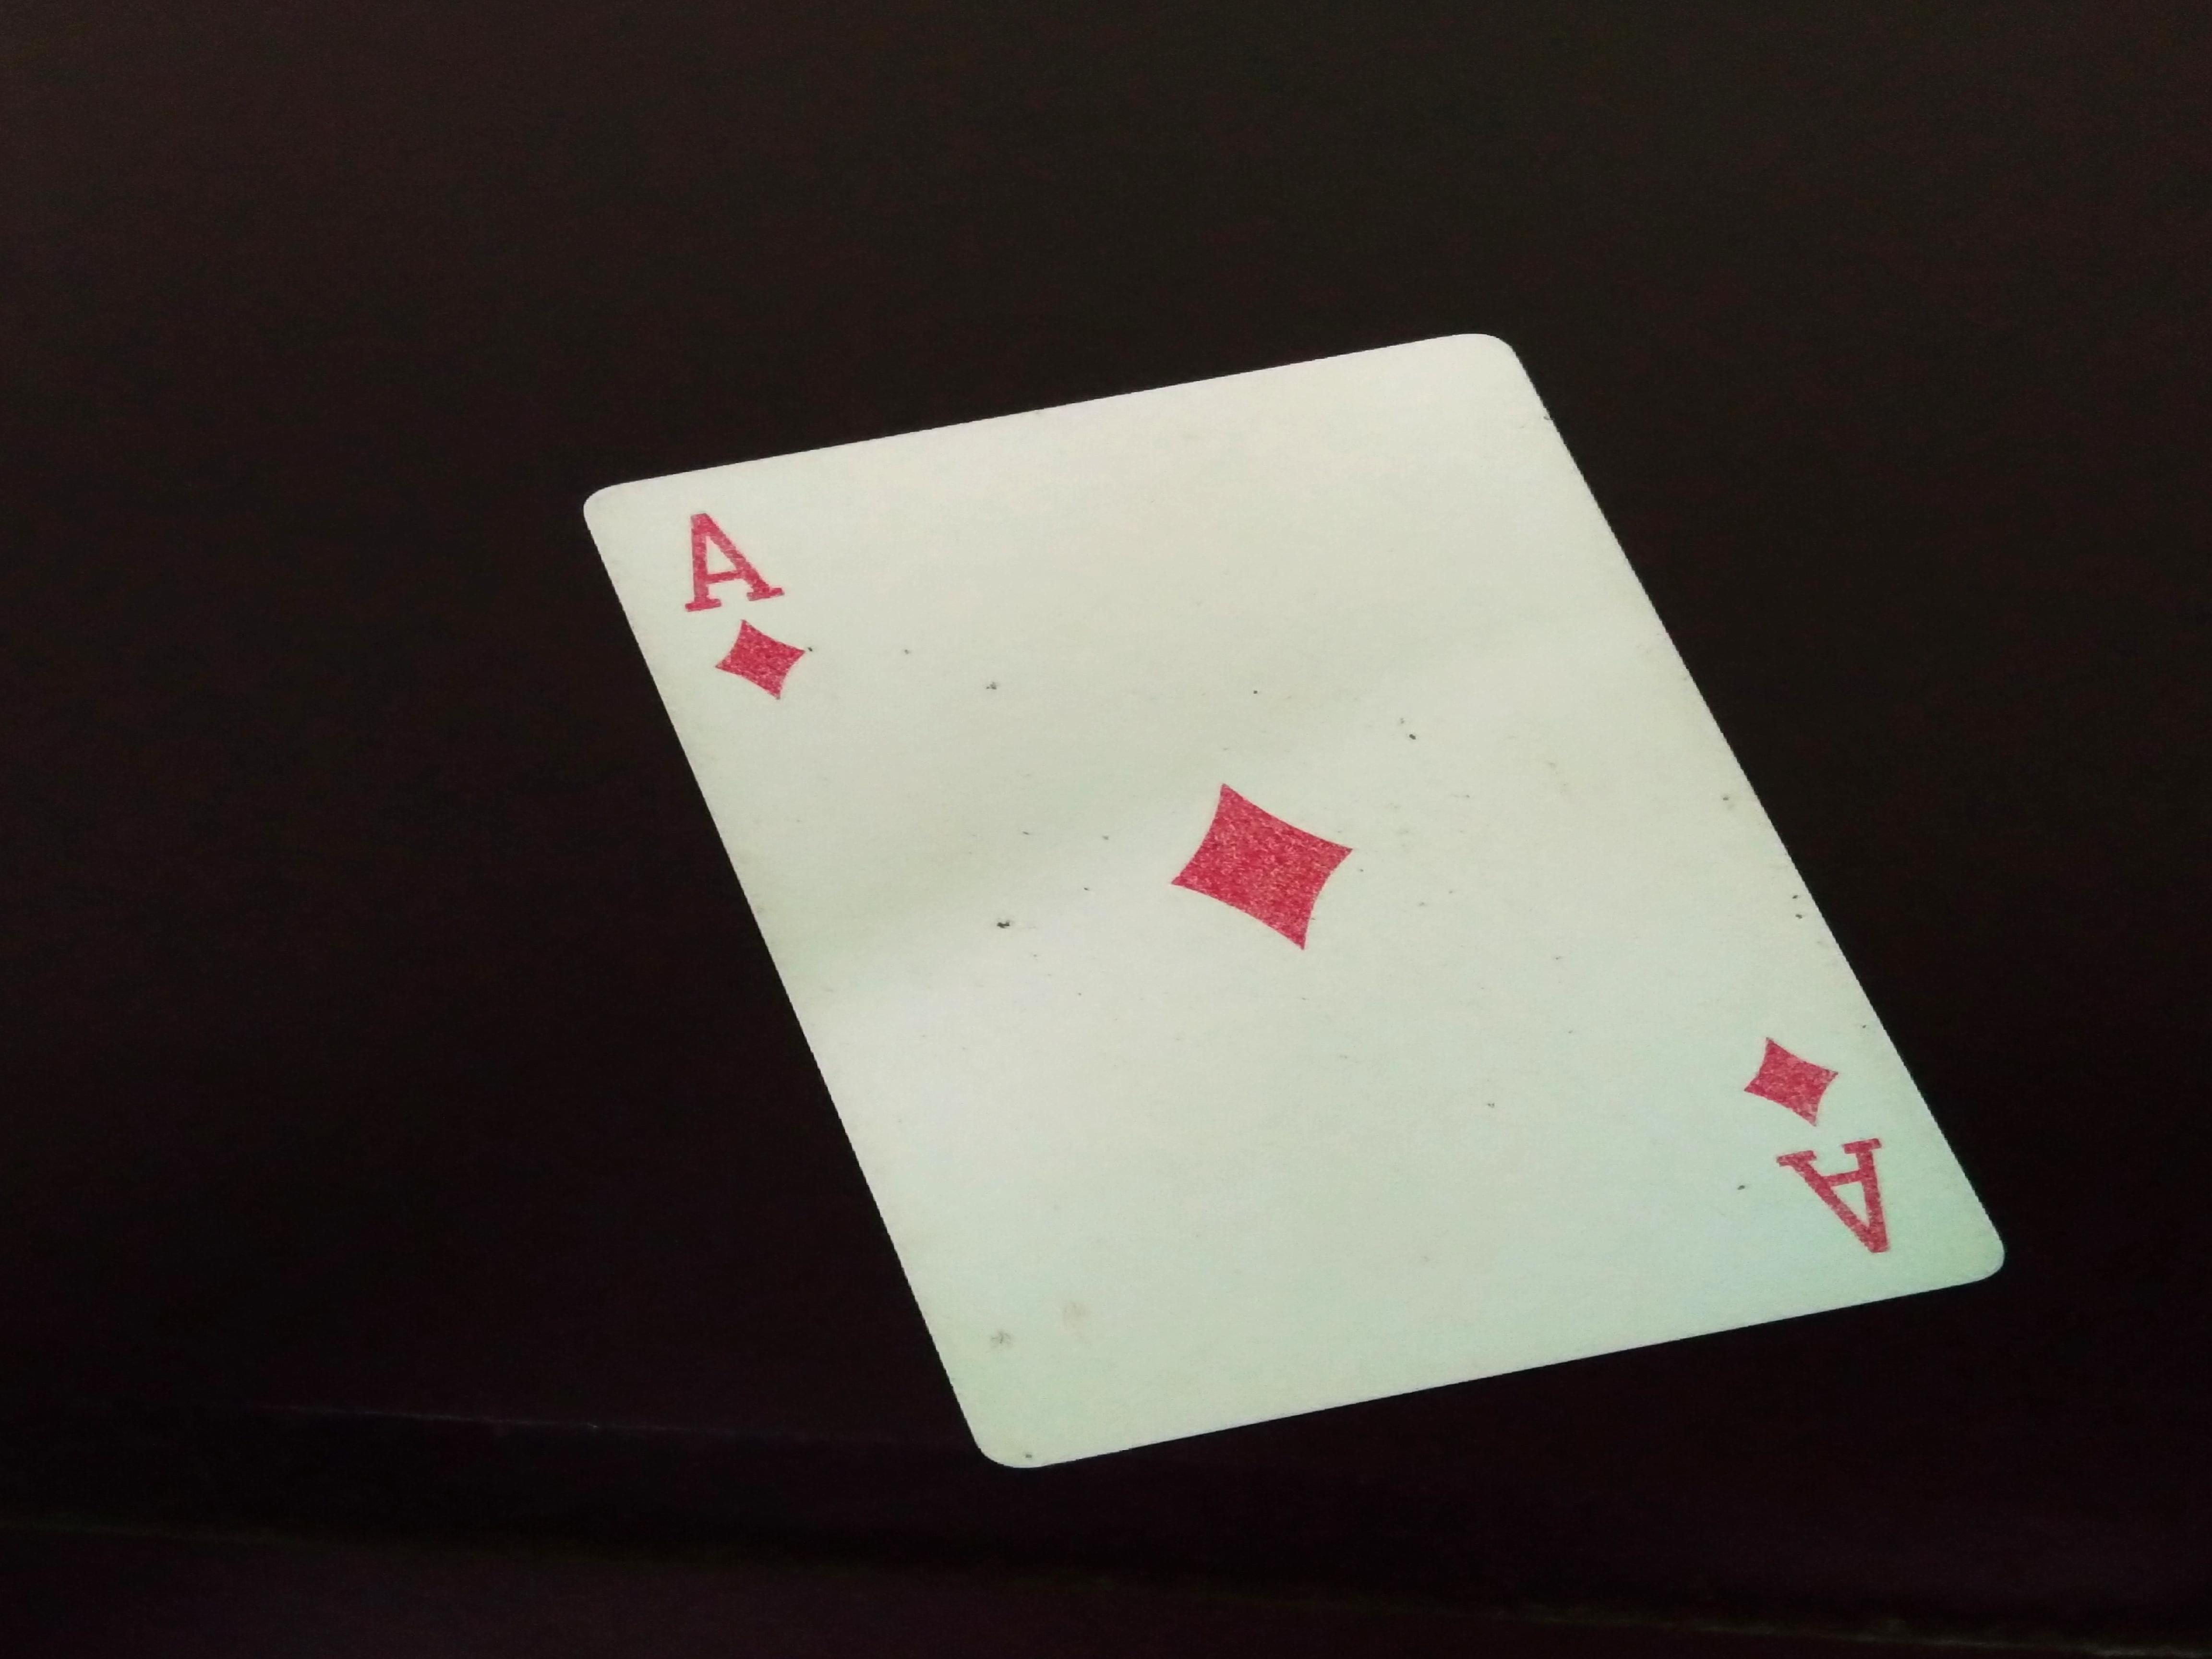AD: (1730, 1006, 1923, 1269)
